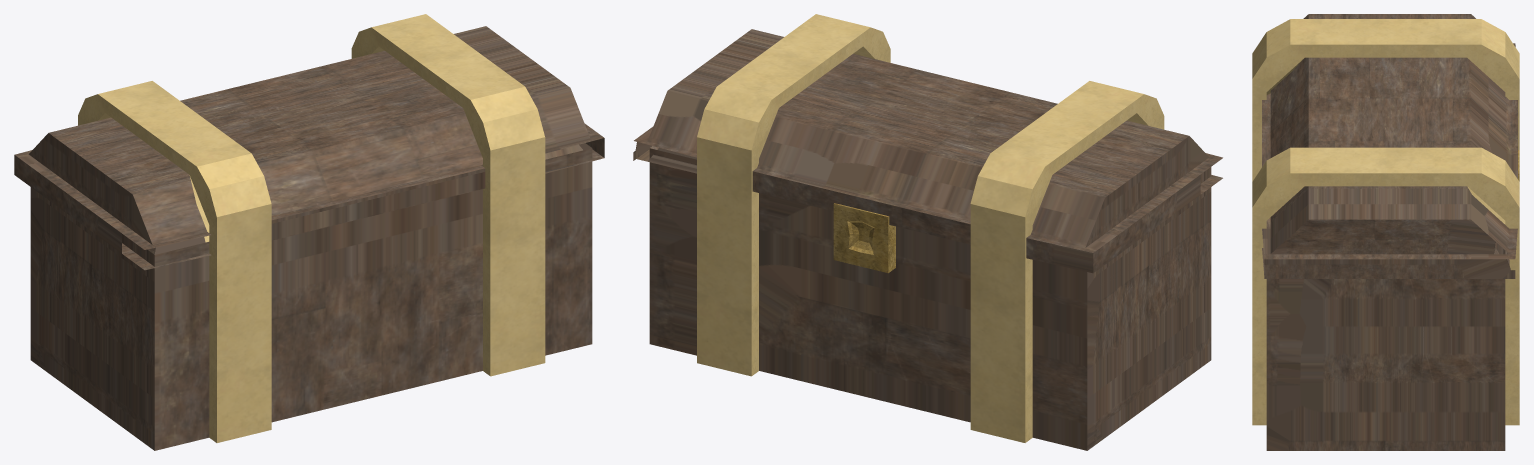
File: Bau_Dourado.fbx
3 renders of one model, left to right at view 1: azimuth 30°, elevation 25°; view 2: azimuth 150°, elevation 25°; view 3: azimuth 270°, elevation 25°, orthographic. The views are drawn at different scales.
Parts seen in each view (by area): view 1: Bau_Inferior, Bau_Superior, Bau_metais; view 2: Bau_Inferior, Bau_Superior, Bau_metais, Bau_fechadura; view 3: Bau_Superior, Bau_Inferior, Bau_metais.
Boxes of the visible parts, x1,y1,x2,y2 form: Bau_Inferior: (30,143,592,450); Bau_Superior: (14,26,604,270); Bau_metais: (78,14,545,442); Bau_Inferior: (649,146,1211,450); Bau_Superior: (633,29,1222,273); Bau_metais: (697,14,1164,442); Bau_fechadura: (833,203,895,273); Bau_Superior: (1262,14,1517,278); Bau_Inferior: (1266,93,1505,450); Bau_metais: (1252,19,1519,425).
Size of the model in its own units: 107 by 58.24 by 56.
Materials: 4 (4 with a texture image).
